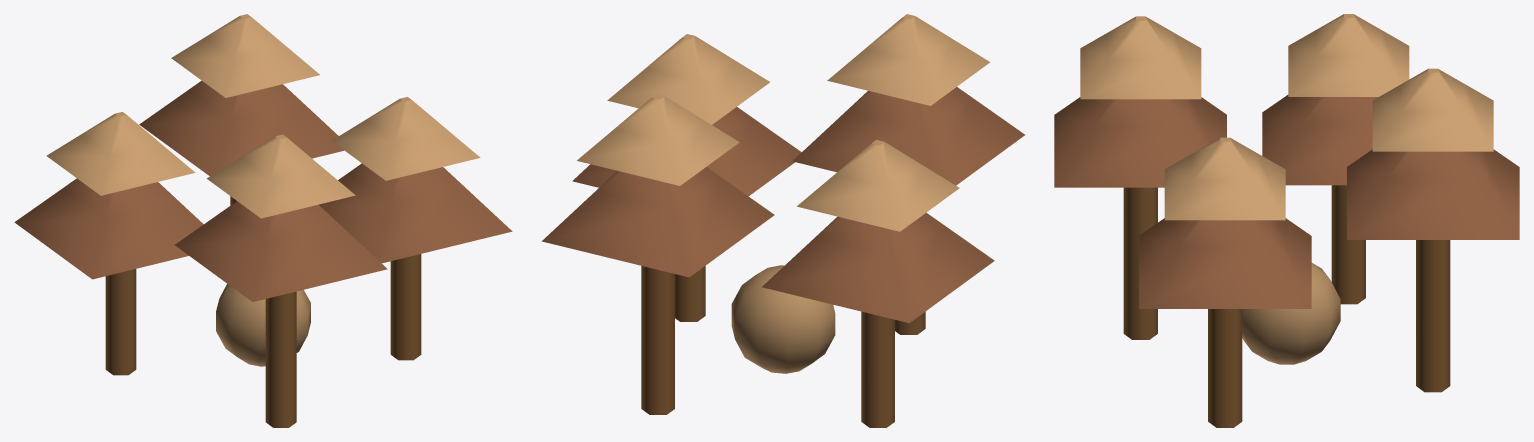
File: feature_spirit_forest.glb
3 views of the same model, side by side, from view 1: azimuth 30°, elevation 25°; view 2: azimuth 150°, elevation 25°; view 3: azimuth 270°, elevation 25° (orthographic). The views are drawn at different scales.
Parts seen in each view (by area): view 1: _MeshInstance3D_266, _MeshInstance3D_269, _MeshInstance3D_263, _MeshInstance3D_272, _MeshInstance3D_267, _MeshInstance3D_264, _MeshInstance3D_270, _MeshInstance3D_273, _MeshInstance3D_265, _MeshInstance3D_274, _MeshInstance3D_262, _MeshInstance3D_268; view 2: _MeshInstance3D_269, _MeshInstance3D_272, _MeshInstance3D_266, _MeshInstance3D_267, _MeshInstance3D_270, _MeshInstance3D_273, _MeshInstance3D_274, _MeshInstance3D_264, _MeshInstance3D_263, _MeshInstance3D_271, _MeshInstance3D_268, _MeshInstance3D_262 (+1 smaller); view 3: _MeshInstance3D_263, _MeshInstance3D_272, _MeshInstance3D_266, _MeshInstance3D_269, _MeshInstance3D_267, _MeshInstance3D_264, _MeshInstance3D_273, _MeshInstance3D_270, _MeshInstance3D_274, _MeshInstance3D_271, _MeshInstance3D_262, _MeshInstance3D_265 (+1 smaller).
Boxes of the visible parts, x1,y1,x2,y2 form: _MeshInstance3D_266: (175, 201, 387, 301); _MeshInstance3D_269: (14, 178, 203, 279); _MeshInstance3D_263: (319, 163, 512, 263); _MeshInstance3D_272: (139, 80, 343, 175); _MeshInstance3D_267: (207, 134, 355, 218); _MeshInstance3D_264: (331, 97, 480, 180); _MeshInstance3D_270: (46, 112, 195, 195); _MeshInstance3D_273: (171, 14, 319, 97); _MeshInstance3D_265: (265, 291, 296, 427); _MeshInstance3D_274: (216, 284, 310, 366); _MeshInstance3D_262: (390, 254, 421, 360); _MeshInstance3D_268: (105, 269, 136, 375); _MeshInstance3D_269: (762, 212, 994, 323); _MeshInstance3D_272: (541, 167, 774, 277); _MeshInstance3D_266: (792, 87, 1024, 185); _MeshInstance3D_267: (827, 14, 989, 105); _MeshInstance3D_270: (797, 140, 959, 231); _MeshInstance3D_273: (577, 94, 739, 185); _MeshInstance3D_274: (731, 265, 835, 373); _MeshInstance3D_264: (607, 34, 769, 124); _MeshInstance3D_263: (572, 107, 801, 196); _MeshInstance3D_271: (641, 266, 674, 414); _MeshInstance3D_268: (861, 311, 894, 427); _MeshInstance3D_262: (675, 266, 705, 321); _MeshInstance3D_263: (1139, 218, 1311, 308); _MeshInstance3D_272: (1347, 149, 1519, 239); _MeshInstance3D_266: (1054, 97, 1226, 187); _MeshInstance3D_269: (1262, 95, 1378, 185); _MeshInstance3D_267: (1080, 16, 1201, 99); _MeshInstance3D_264: (1164, 137, 1285, 220); _MeshInstance3D_273: (1372, 68, 1493, 151); _MeshInstance3D_270: (1288, 14, 1409, 96); _MeshInstance3D_274: (1242, 263, 1340, 364); _MeshInstance3D_271: (1416, 240, 1450, 392); _MeshInstance3D_262: (1208, 309, 1242, 427); _MeshInstance3D_265: (1123, 187, 1157, 339).
Bounding box in the file's own units: 0.7618 × 0.57 × 0.7618.
